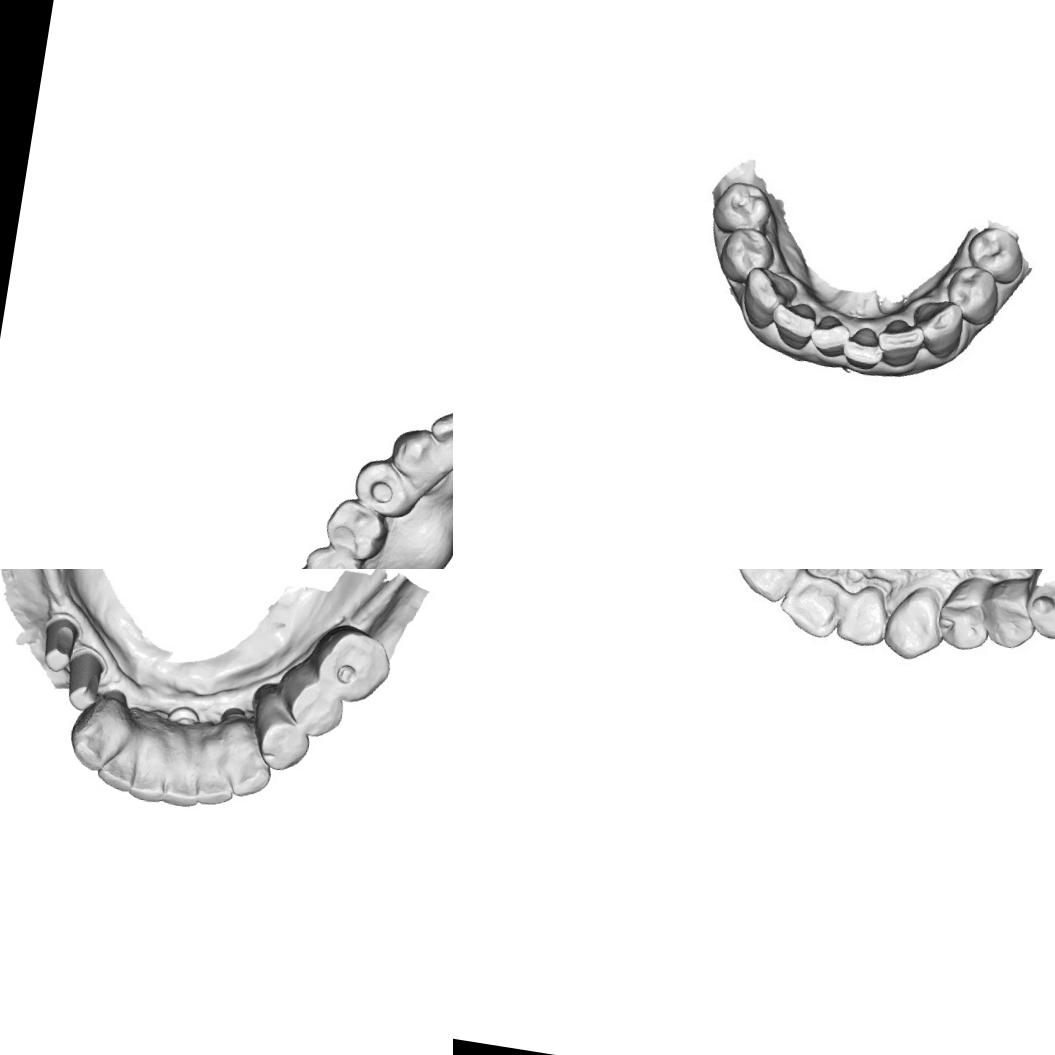abutment: (32, 604, 84, 678), (59, 648, 110, 715)
canine: (880, 580, 946, 665), (736, 263, 799, 333), (224, 738, 278, 804), (66, 712, 120, 773), (387, 424, 439, 478), (914, 298, 961, 350)
incisor: (774, 570, 846, 642), (837, 580, 893, 650), (729, 569, 811, 610), (192, 752, 240, 814), (772, 301, 820, 351), (128, 753, 174, 805), (878, 322, 927, 368), (808, 311, 851, 362), (160, 762, 204, 810), (95, 749, 139, 795), (845, 324, 884, 371), (427, 404, 453, 450)
molar: (312, 626, 398, 705), (290, 543, 371, 569)
premolar: (319, 494, 392, 564), (982, 569, 1042, 653), (284, 672, 353, 742), (937, 575, 997, 655), (351, 454, 416, 520), (254, 712, 316, 776), (969, 226, 1020, 285), (714, 184, 770, 236), (948, 266, 1000, 322), (722, 226, 772, 276)
